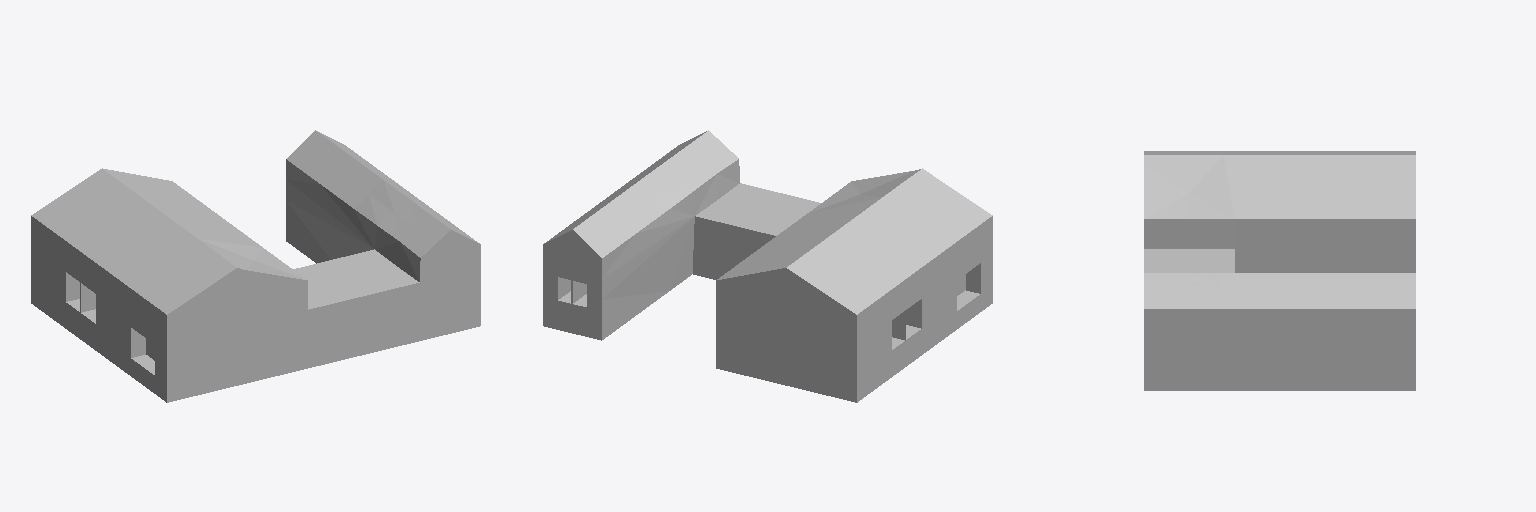
Rendered from house22.obj.
3 views of the same model, side by side, from view 1: azimuth 30°, elevation 25°; view 2: azimuth 150°, elevation 25°; view 3: azimuth 270°, elevation 25° (orthographic).
Parts seen in each view (by area): view 1: 立方体.023; view 2: 立方体.023; view 3: 立方体.023.
Boxes of the visible parts, x1=… form: 立方体.023: x1=31, y1=130, x2=480, y2=402; 立方体.023: x1=543, y1=130, x2=992, y2=402; 立方体.023: x1=1144, y1=151, x2=1415, y2=390.
Bounding box in the file's own units: 96 × 34.49 × 72.